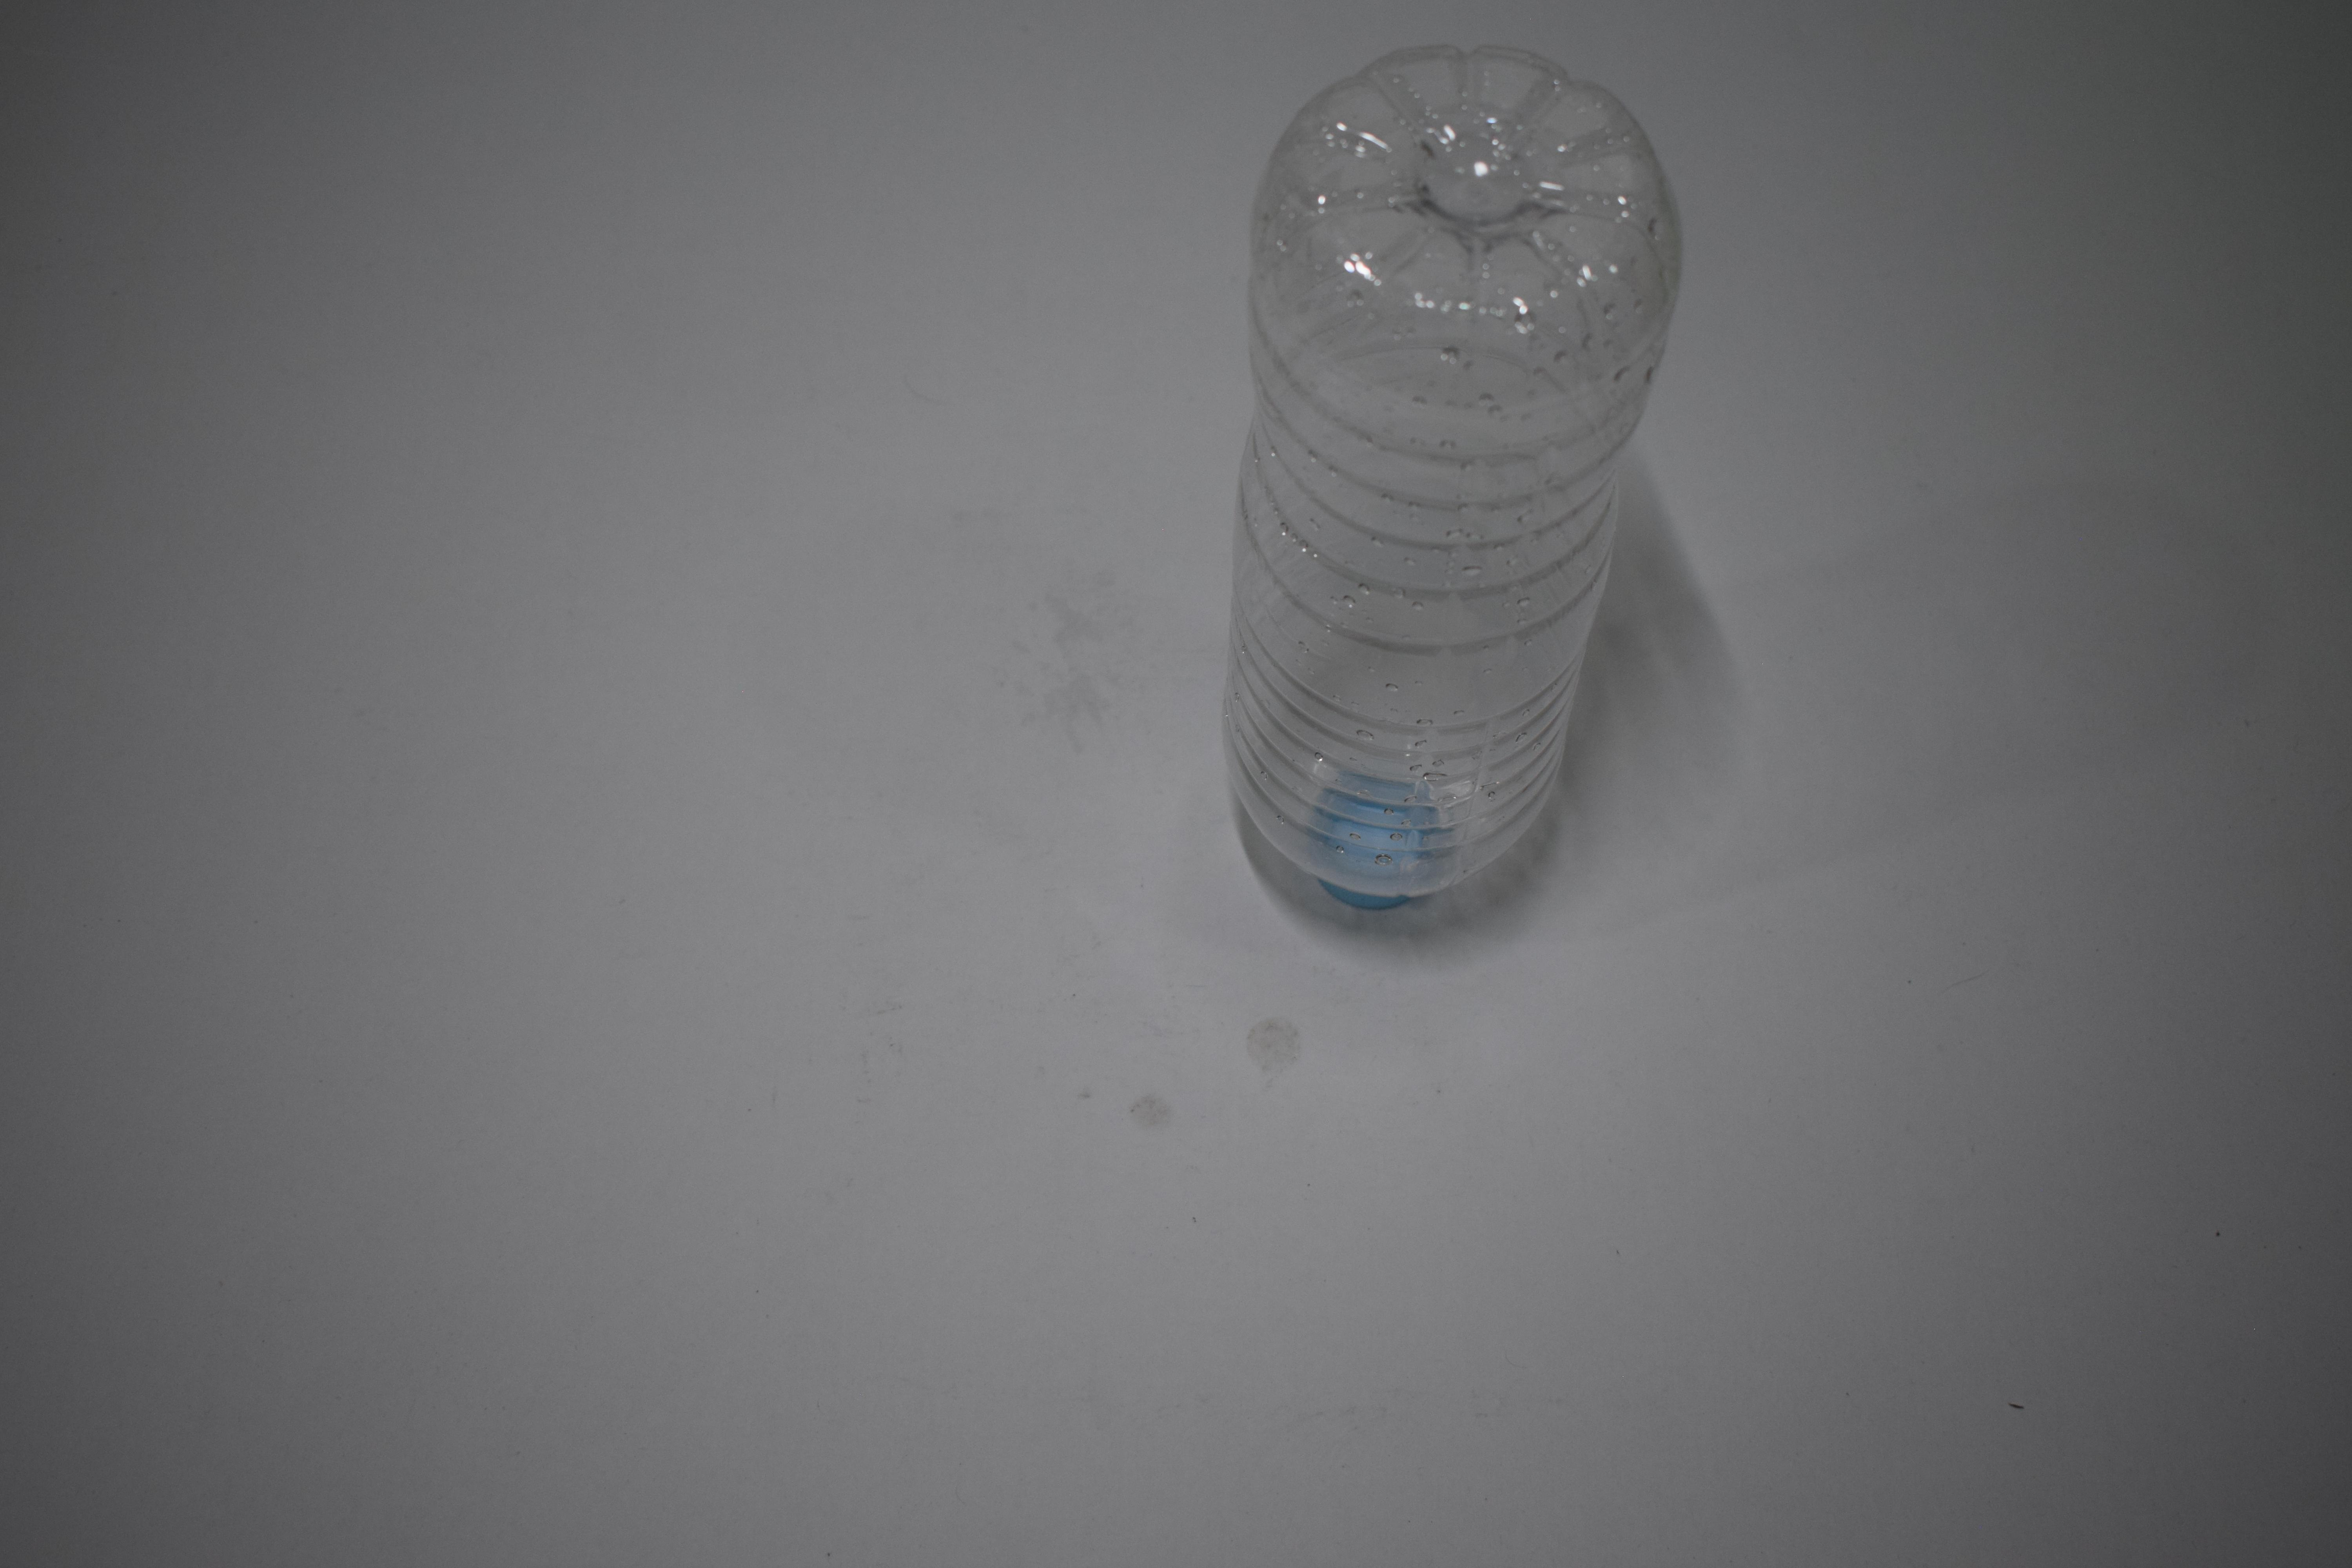bottle: (1214, 420, 1689, 532)
